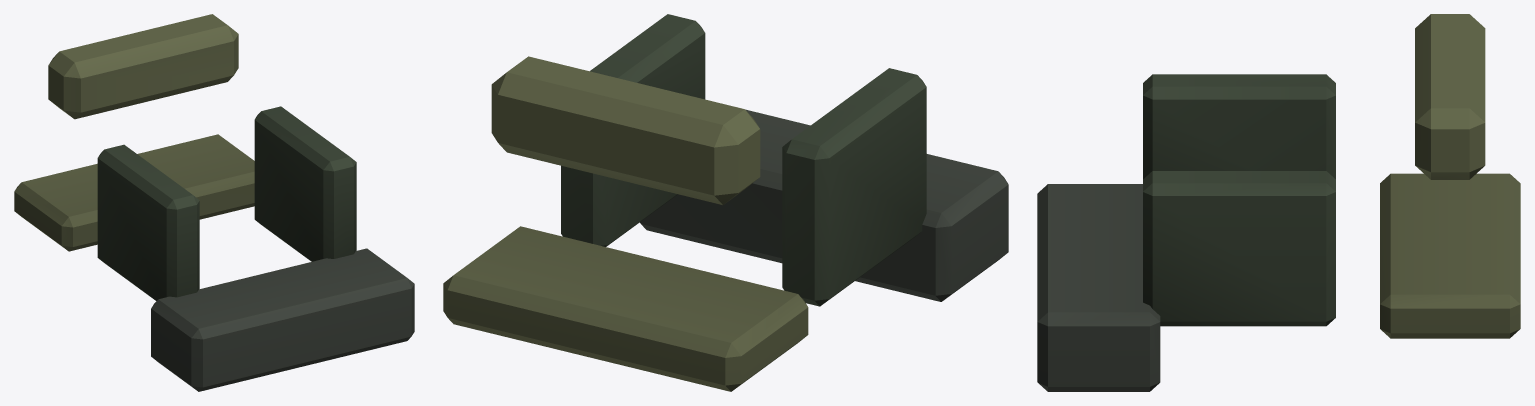
The model's file is leg_braced_right.glb.
3 renders of one model, left to right at view 1: azimuth 30°, elevation 25°; view 2: azimuth 150°, elevation 25°; view 3: azimuth 270°, elevation 25°, orthographic. The views are drawn at different scales.
Visible parts, largest first — view 1: Wide_heel_spade.001, Reinforced_knee.001, Shin_bracing.002, Shin_bracing.003, Toe_applique.001; view 2: Toe_applique.001, Reinforced_knee.001, Shin_bracing.002, Wide_heel_spade.001, Shin_bracing.003; view 3: Shin_bracing.003, Wide_heel_spade.001, Toe_applique.001, Shin_bracing.002, Reinforced_knee.001.
Boxes of the visible parts, x1,y1,x2,y2 form: Wide_heel_spade.001: (151,248,414,391); Reinforced_knee.001: (48,14,238,119); Shin_bracing.002: (97,144,199,300); Shin_bracing.003: (254,106,356,261); Toe_applique.001: (14,134,254,251); Toe_applique.001: (443,226,808,391); Reinforced_knee.001: (491,56,760,204); Shin_bracing.002: (782,68,926,306); Wide_heel_spade.001: (640,109,1008,301); Shin_bracing.003: (561,14,705,246); Shin_bracing.003: (1143,171,1335,326); Wide_heel_spade.001: (1037,184,1160,391); Toe_applique.001: (1380,173,1520,338); Shin_bracing.002: (1143,74,1335,178); Reinforced_knee.001: (1415,14,1485,179).
Bounding box in the file's own units: 0.37 × 0.335 × 0.55.
